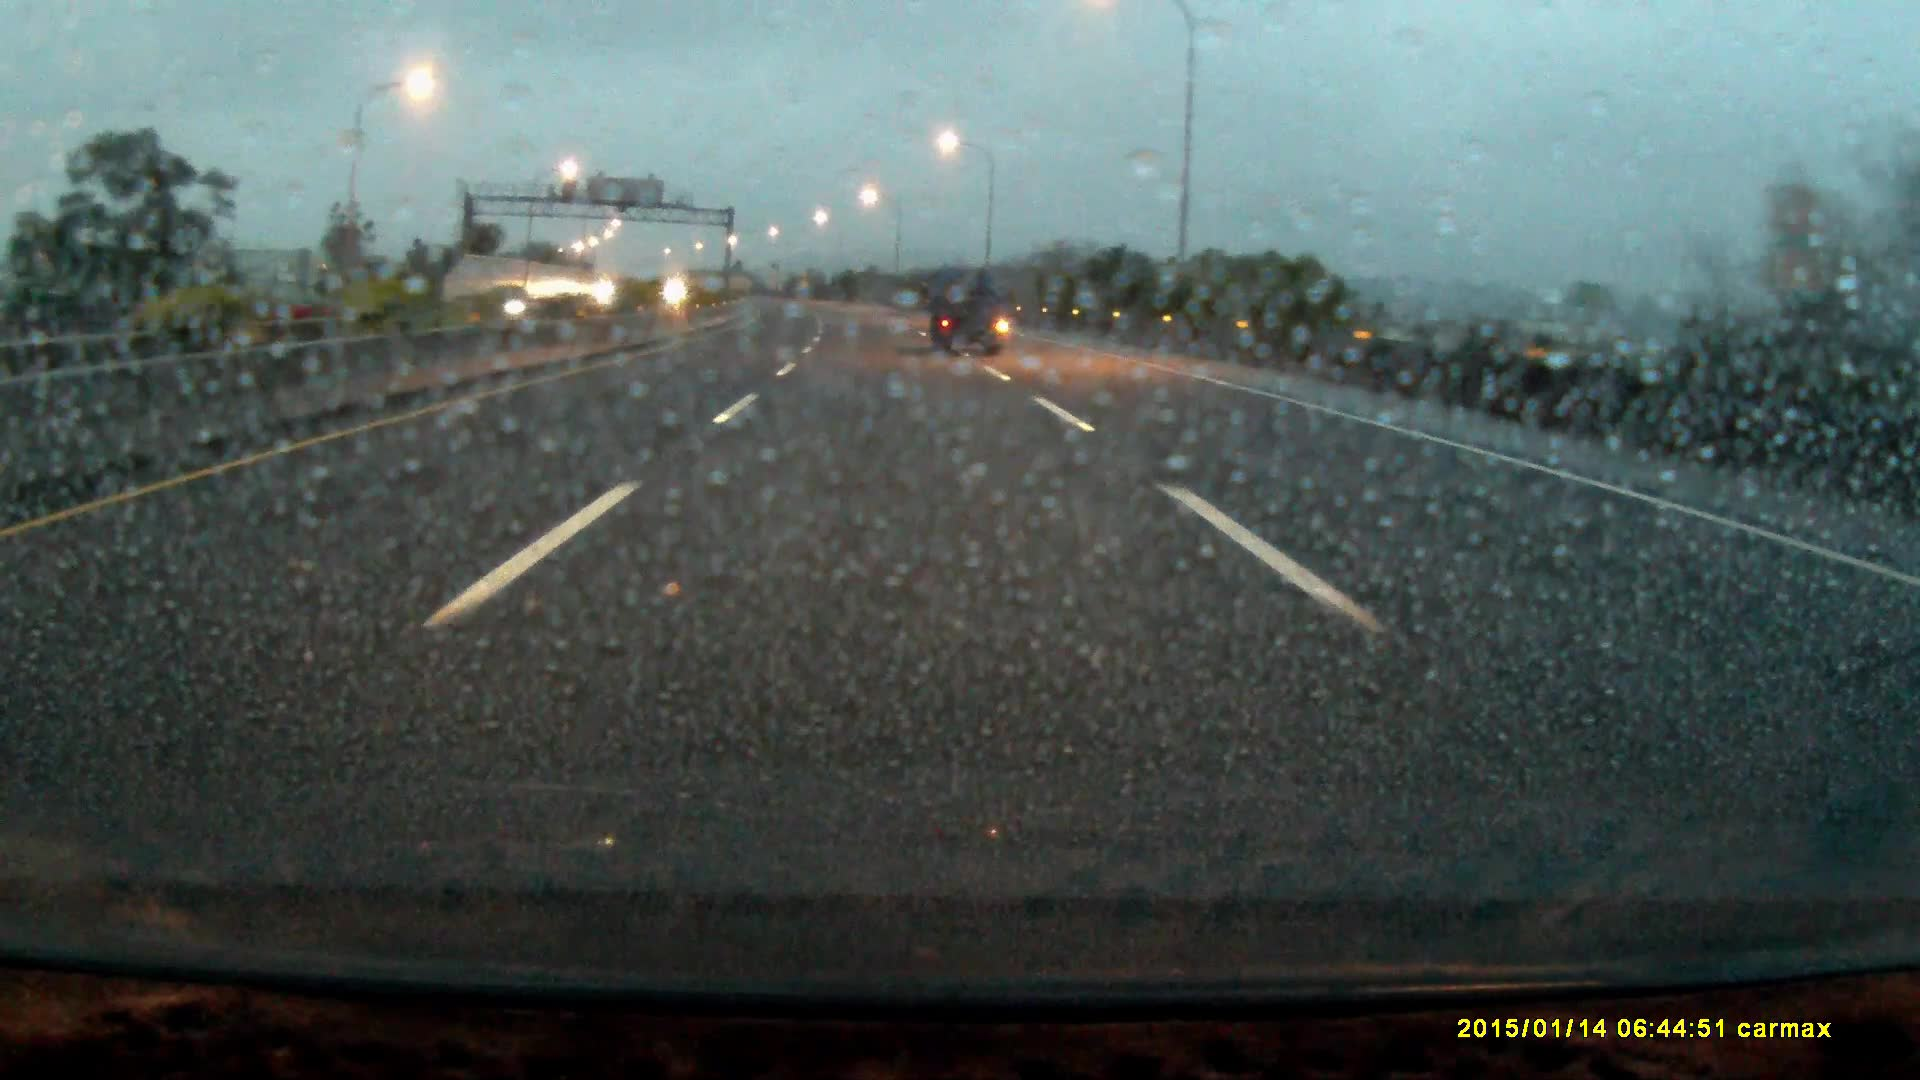vehicle: (928, 272, 1011, 357)
